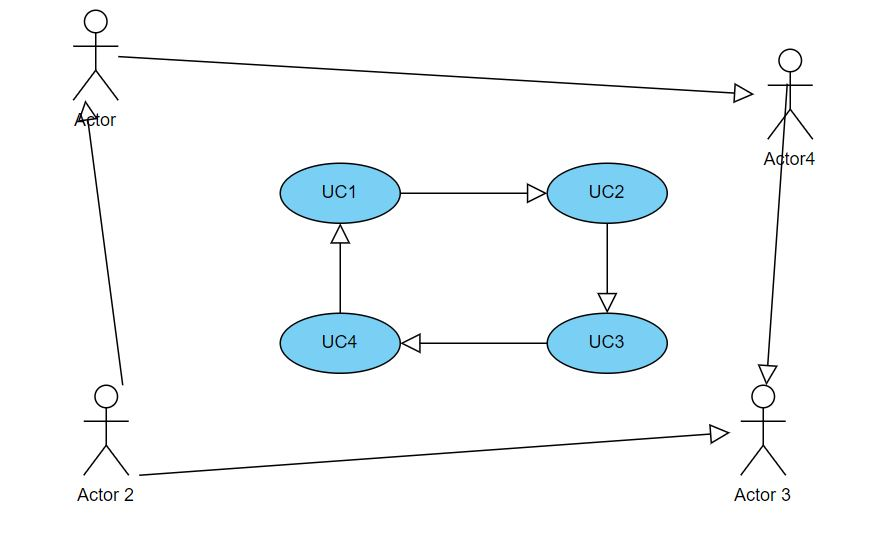actor: (68, 9, 122, 101), (740, 384, 788, 477), (83, 384, 130, 477), (766, 48, 813, 140)
generalization: (118, 52, 754, 103), (138, 425, 732, 477), (79, 100, 127, 383), (401, 180, 547, 207), (400, 331, 547, 356), (596, 223, 617, 313), (329, 224, 349, 314)
text: (75, 484, 137, 506), (578, 331, 632, 354), (730, 486, 795, 505), (762, 148, 819, 168), (316, 330, 363, 352), (318, 180, 361, 202), (75, 109, 115, 131), (587, 179, 625, 200)
use_case: (278, 312, 401, 375), (547, 163, 669, 225), (546, 311, 667, 373), (278, 162, 400, 223)
